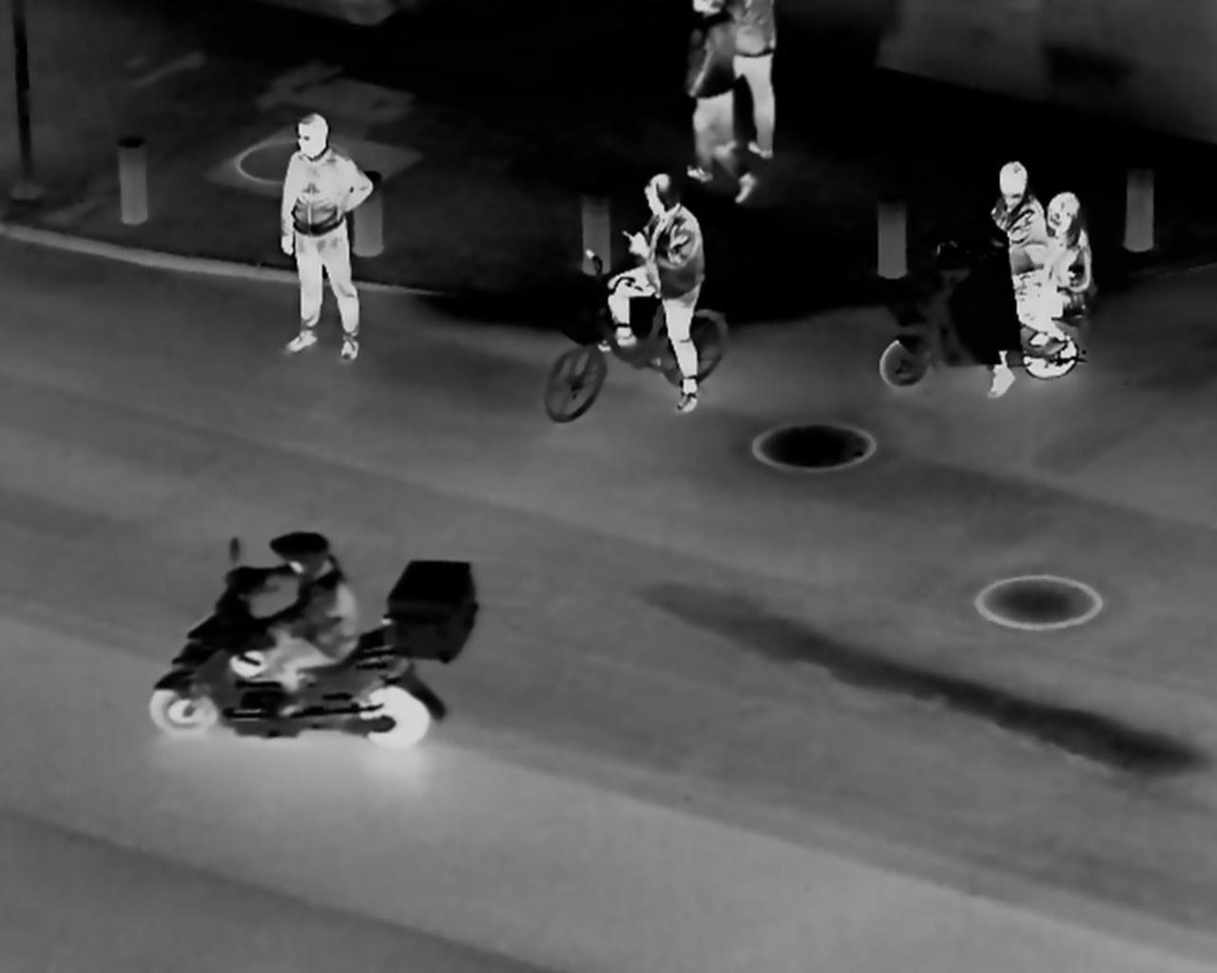person: (603, 161, 730, 416), (265, 100, 377, 368), (242, 536, 356, 703), (977, 143, 1047, 391), (1036, 186, 1104, 359)
